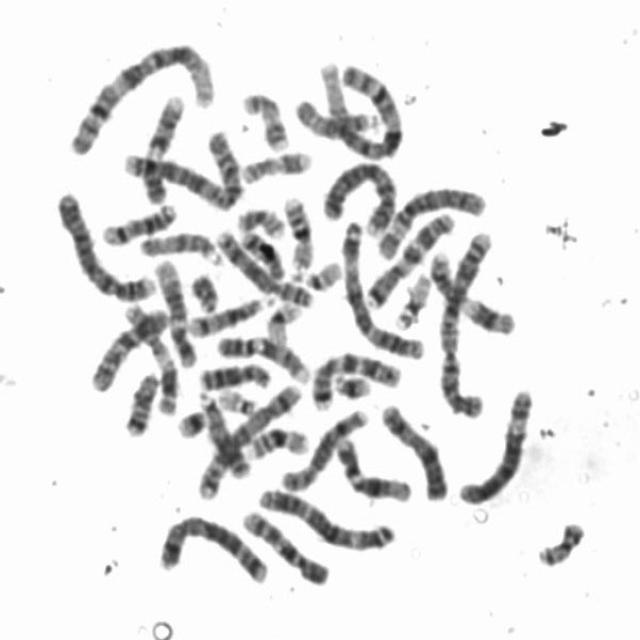A1: (61, 31, 221, 158), (313, 52, 405, 161)
A2: (431, 222, 496, 421), (119, 122, 244, 210)
A3: (334, 212, 427, 361), (250, 479, 398, 553)
B4: (49, 182, 159, 304), (316, 153, 400, 236)
B5: (189, 375, 304, 501), (150, 506, 271, 586)
C10: (83, 297, 171, 393), (235, 501, 332, 588)
C11: (422, 242, 519, 338), (116, 294, 181, 418)
C12: (328, 430, 414, 504), (148, 250, 200, 369)
C6: (452, 380, 536, 506), (370, 177, 489, 262)
C7: (359, 203, 457, 310), (304, 341, 404, 411)
C8: (208, 220, 316, 310), (273, 398, 371, 494)
C9: (135, 84, 187, 206), (208, 325, 312, 384)
D13: (193, 383, 254, 480), (192, 354, 274, 392)
D14: (94, 194, 180, 247), (182, 288, 268, 338)
D15: (287, 89, 382, 140), (132, 222, 225, 266)
E16: (276, 186, 317, 272), (242, 418, 312, 460)
E17: (235, 82, 291, 153), (234, 141, 314, 185)
E18: (117, 363, 162, 438), (234, 221, 286, 282)
F19: (388, 265, 434, 330), (258, 293, 303, 345)
F20: (529, 512, 588, 568), (230, 199, 287, 240)
G21: (326, 364, 374, 402), (169, 400, 211, 440)
G22: (290, 251, 344, 292), (213, 381, 258, 416)
X: (374, 395, 452, 502)
Y: (183, 264, 221, 314)
